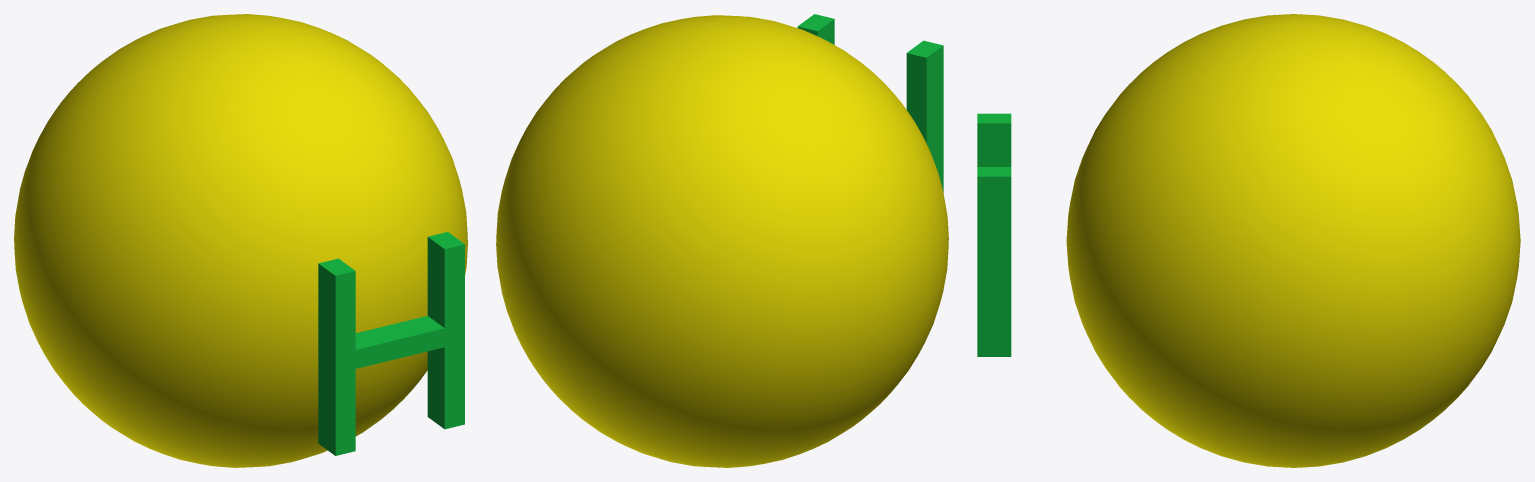
Rendered from hydrogen_so.glb.
3 views of the same model, side by side, from view 1: azimuth 30°, elevation 25°; view 2: azimuth 150°, elevation 25°; view 3: azimuth 270°, elevation 25° (orthographic).
Parts seen in each view (by area): view 1: mesh_id40, mesh_id51; view 2: mesh_id40, mesh_id51; view 3: mesh_id40, mesh_id51.
Part boxes in pixels (x1,y1,x2,y2): mesh_id40: (14,14,467,467); mesh_id51: (318,232,464,455); mesh_id40: (496,15,948,467); mesh_id51: (797,14,943,192); mesh_id40: (1066,14,1520,467); mesh_id51: (977,113,1011,356).
Bounding box in the file's own units: 0.2 × 0.2 × 0.2393.
2 materials, 2 textured.
